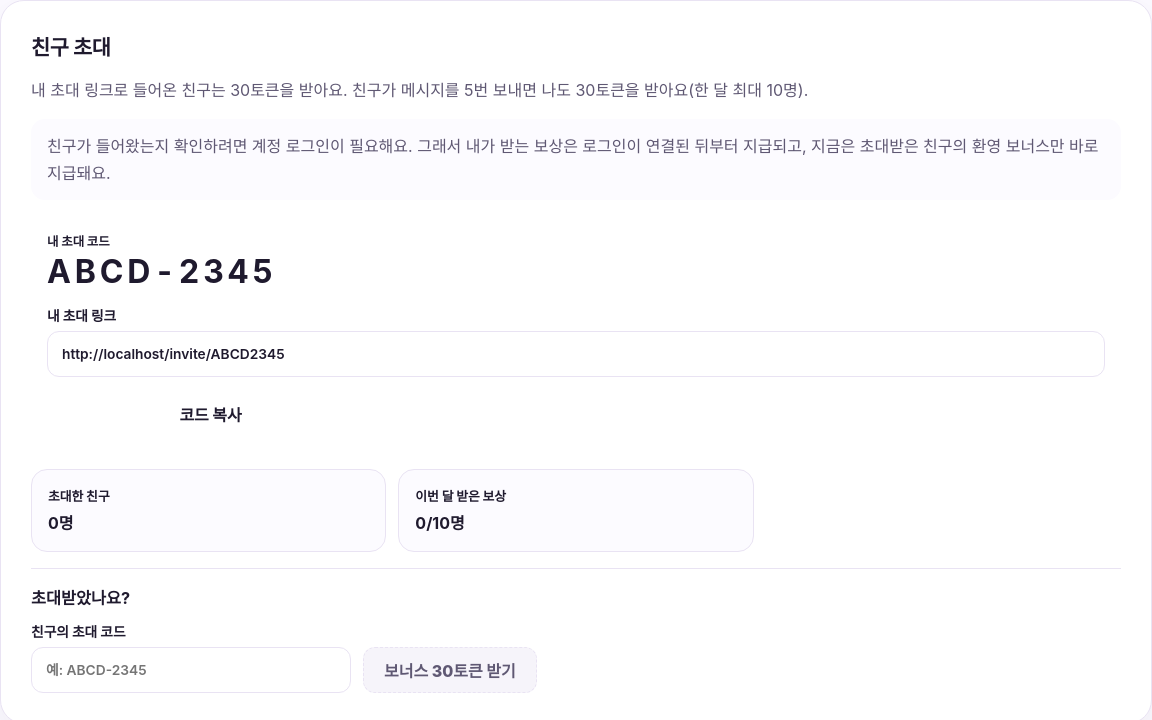
Test: 친구 초대 칸 › 친구의 초대 코드를 넣으면 환영 보너스를 받고, 잘못된 코드와 내 코드는 이유를 알려 준다
Check: the button "보너스 30토큰 받기" is disabled, box [363,647,537,693]
Step 1. Type "12345" into the field labelled "친구의 초대 코드" → [191, 670], box [31,647,351,693]
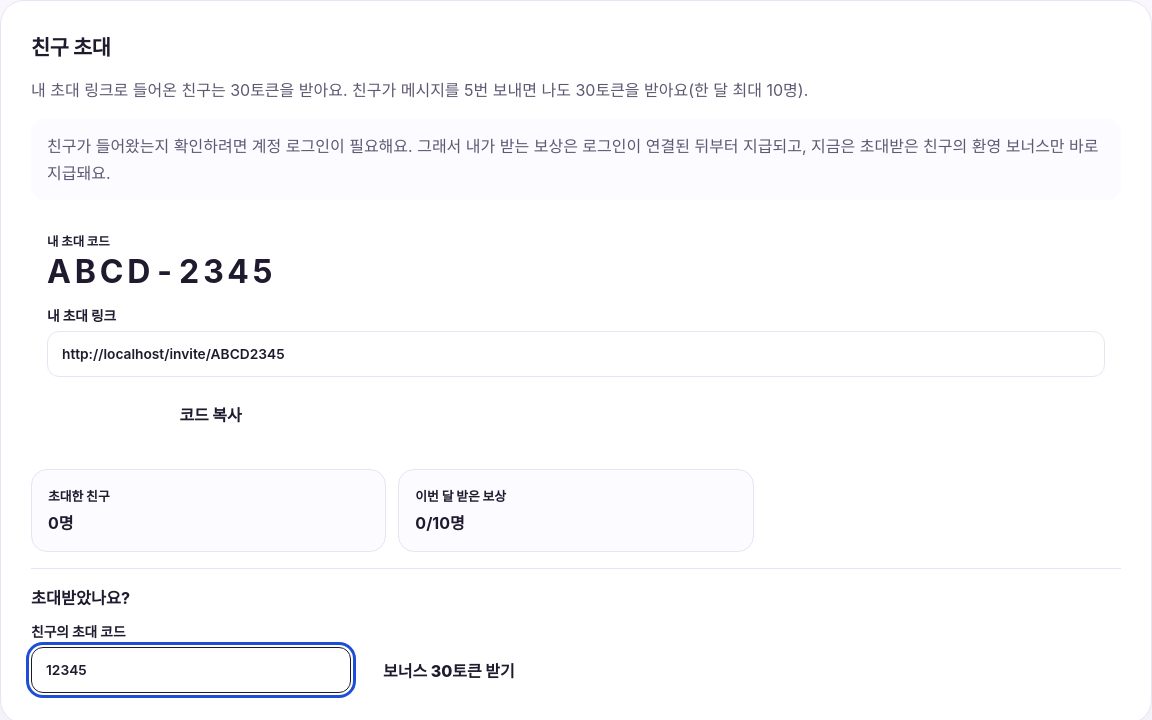
Step 2. Click the button "보너스 30토큰 받기" → [449, 670], box [363,647,535,693]
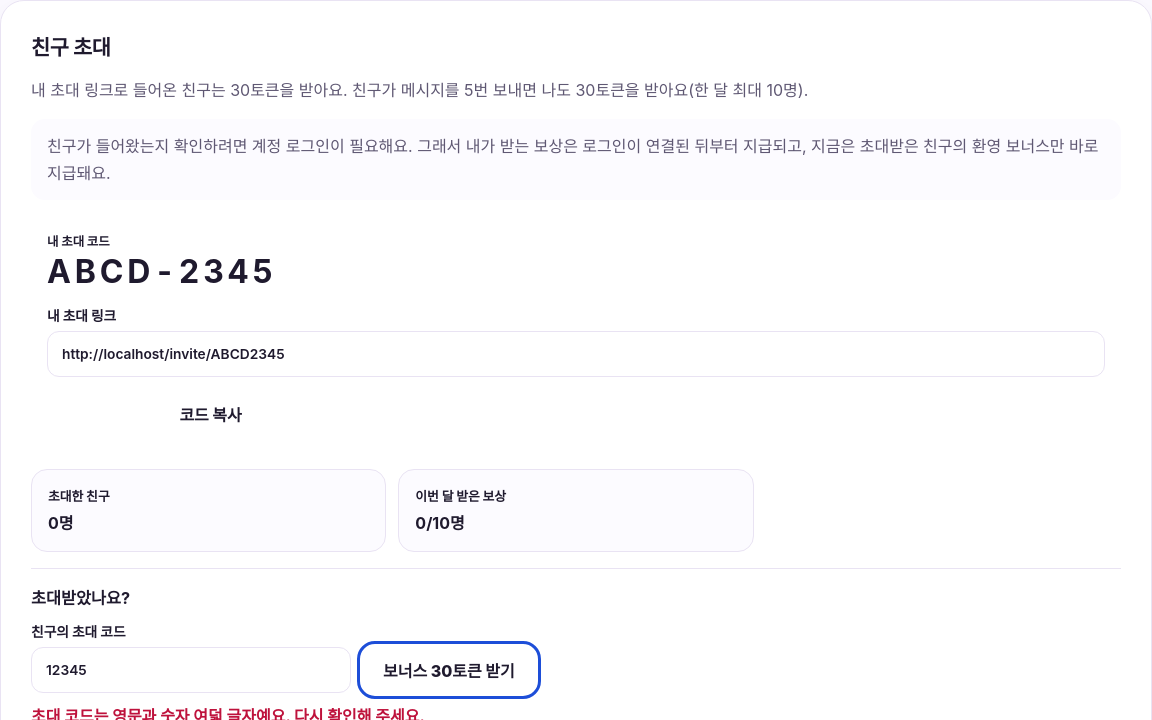
Step 3. Replace the text in the field labelled "친구의 초대 코드" with "abcd-2345" → [191, 670], box [31,647,351,693]
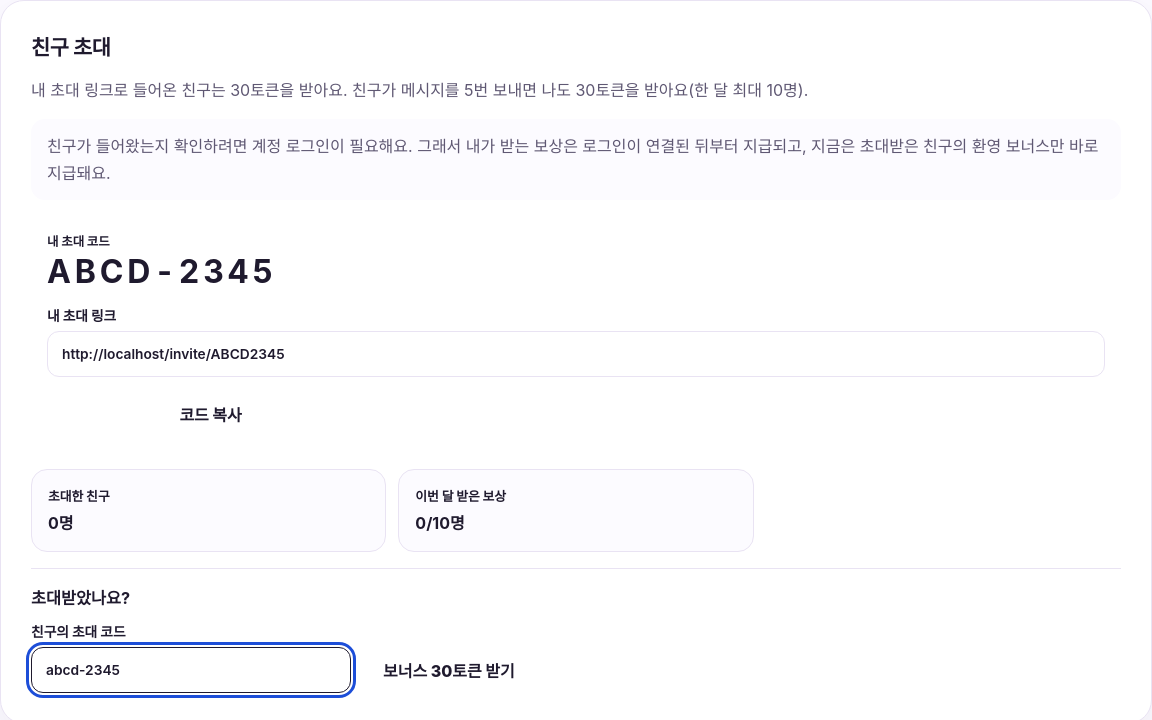
Step 4. Click the button "보너스 30토큰 받기" → [449, 670], box [363,647,535,693]
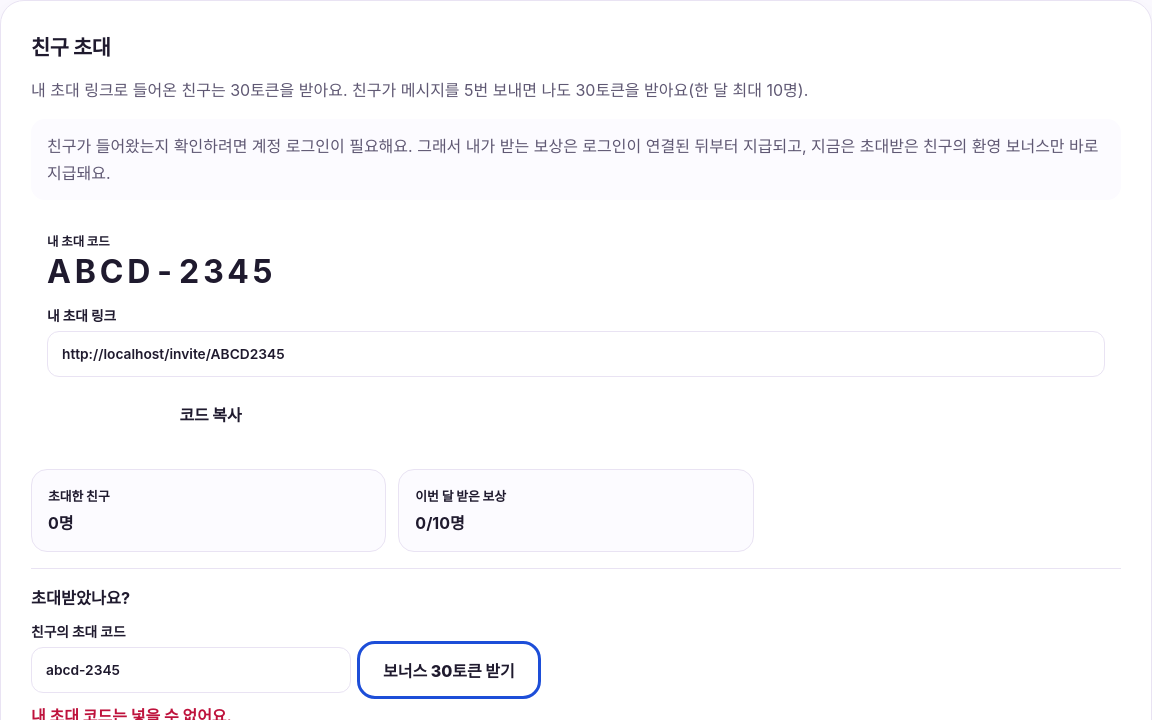
Step 5. Replace the text in the field labelled "친구의 초대 코드" with "wxyz-6789" → [191, 670], box [31,647,351,693]
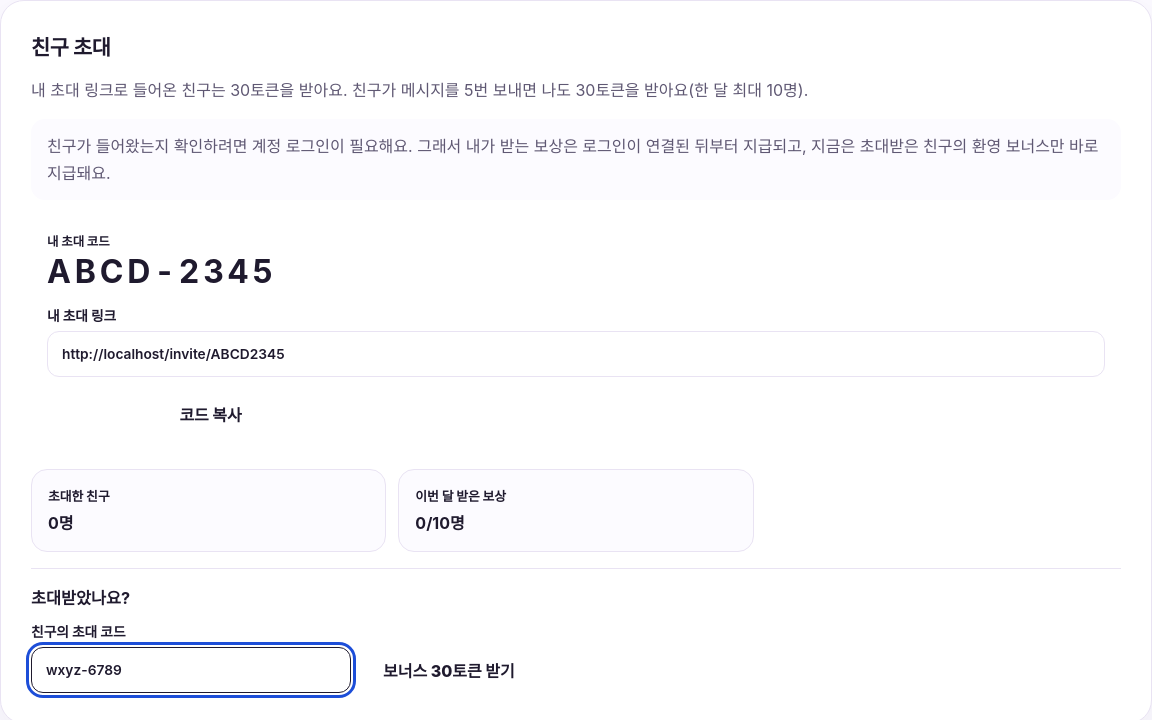
Step 6. Click the button "보너스 30토큰 받기" → [449, 670], box [363,647,535,693]
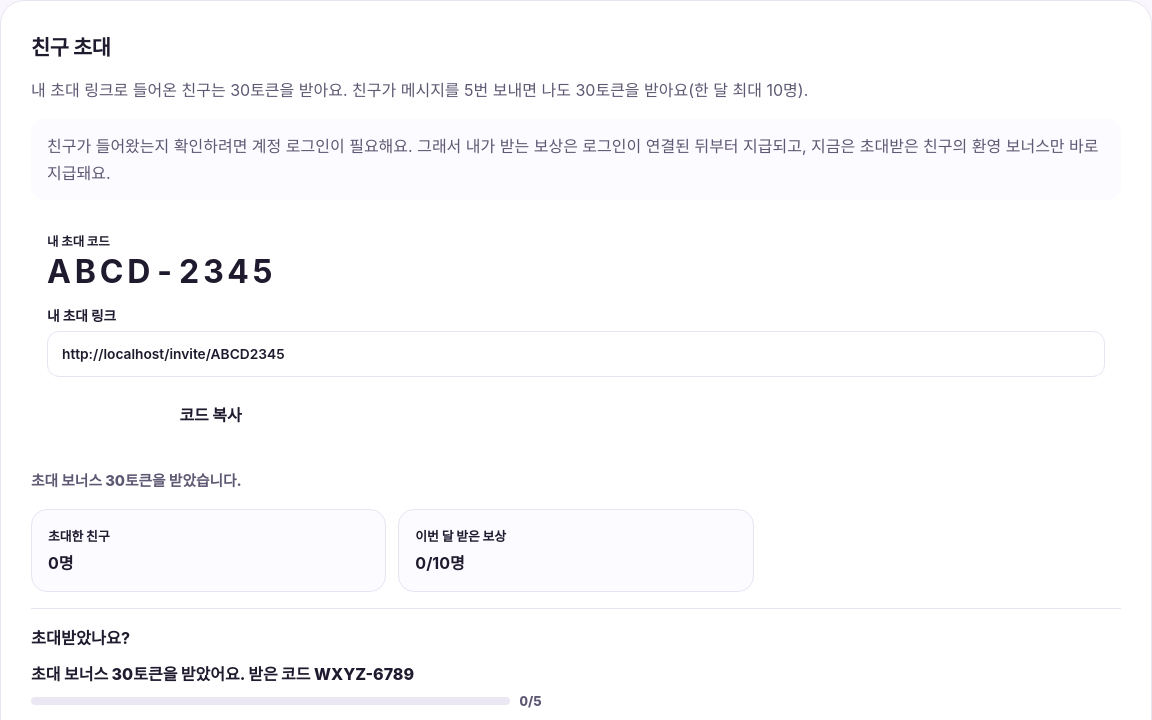
Check: the text "초대 보너스 30토큰을 받았습니다." is shown, box [31,472,242,490]
Check: the label labelled "친구의 초대 코드" is gone
